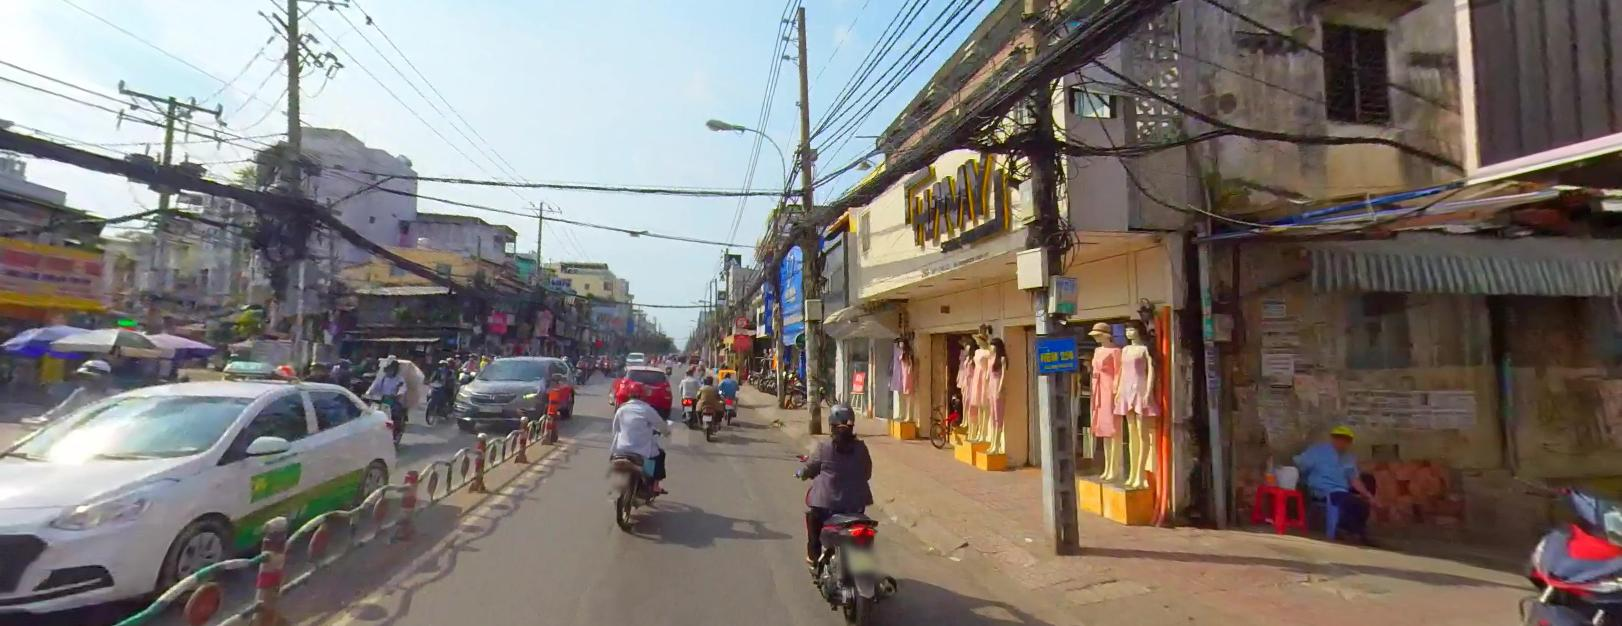Cam con lai: (735, 314, 747, 326)
